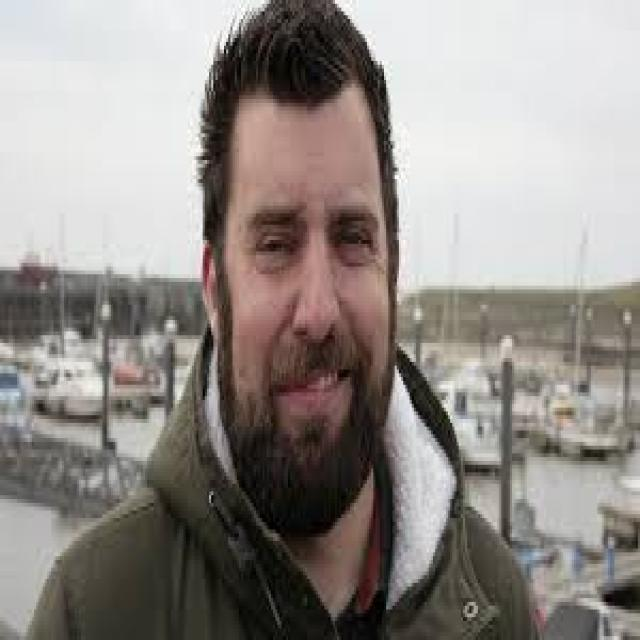stroke_face: (210, 57, 392, 561)
